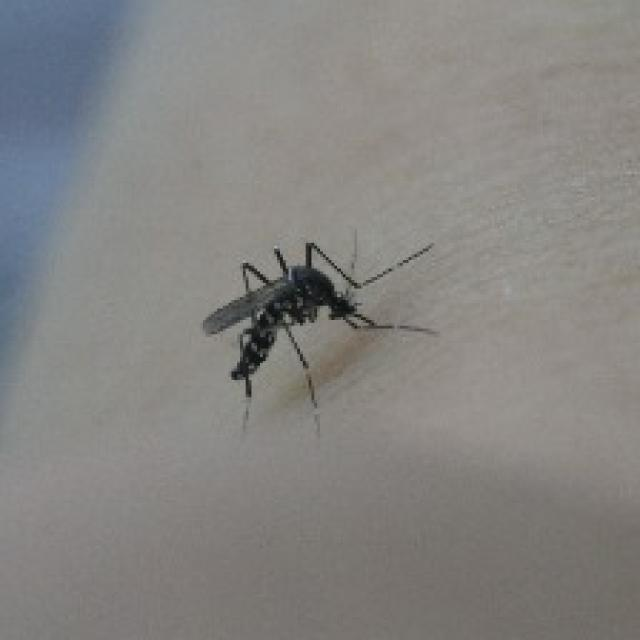aedes: (197, 225, 440, 426)
